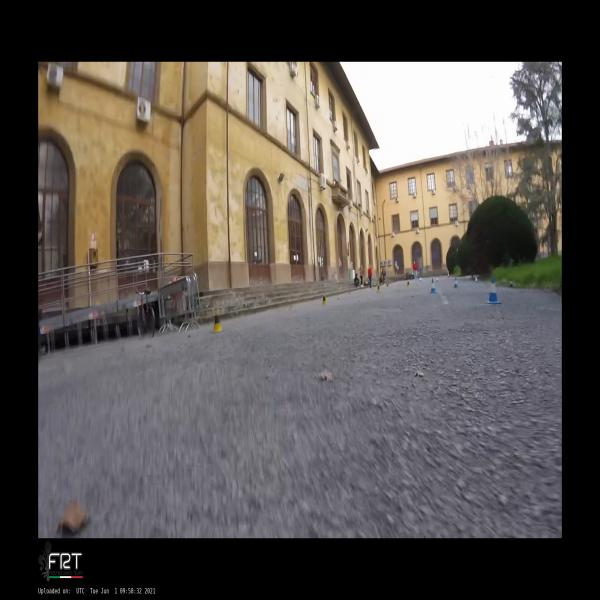blue_cone: (484, 276, 502, 305), (430, 278, 437, 294), (454, 277, 458, 288), (436, 277, 438, 282)
large_orange_cone: (447, 270, 450, 278)
yellow_cone: (209, 308, 225, 334), (322, 294, 328, 306), (377, 285, 380, 293), (407, 280, 410, 287), (387, 282, 389, 288)
